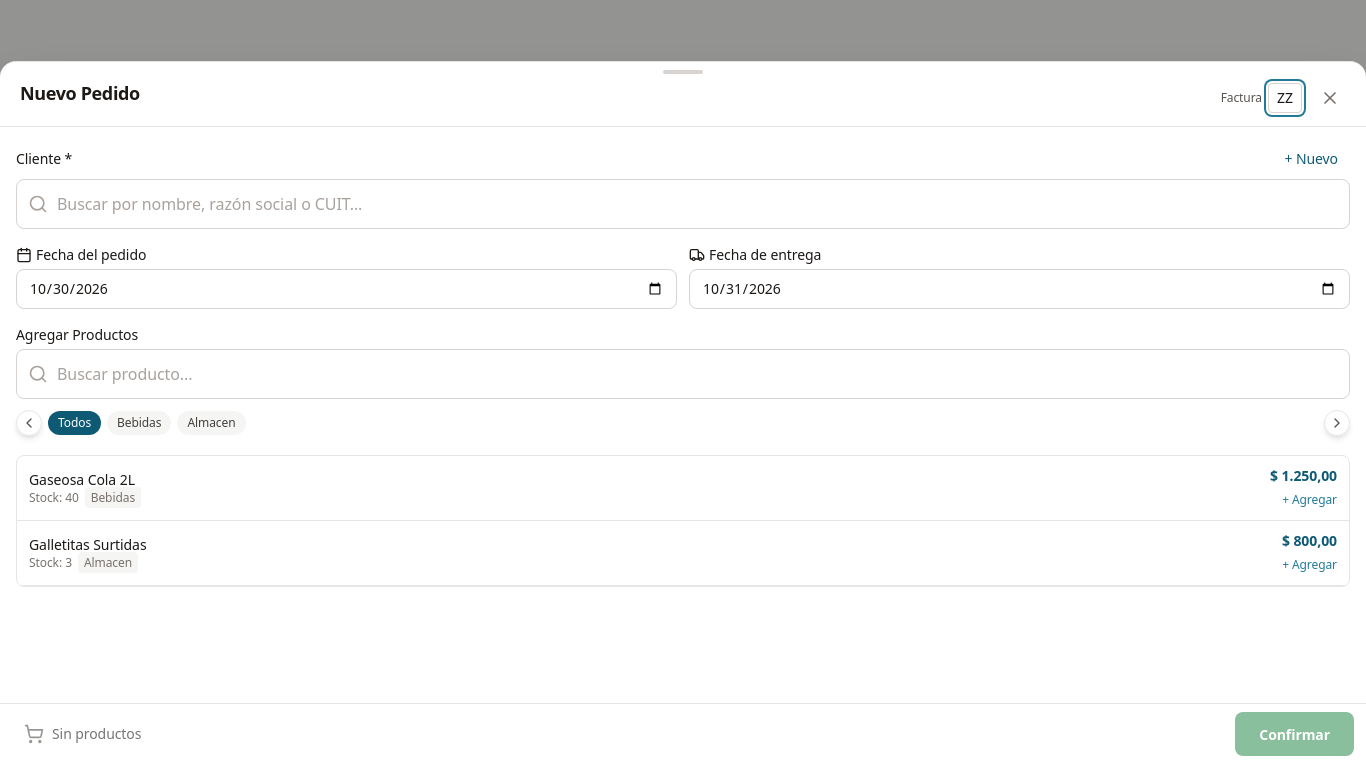
Test: ModalPedido en celular — el envoltorio › el cajón del carrito conserva su contrato: aria-expanded, aria-controls y aria-hidden
Type "Gaseosa" into the field with placeholder "Buscar producto...".
click(683, 374); type("Gaseosa")  # box [16,350,1350,400]
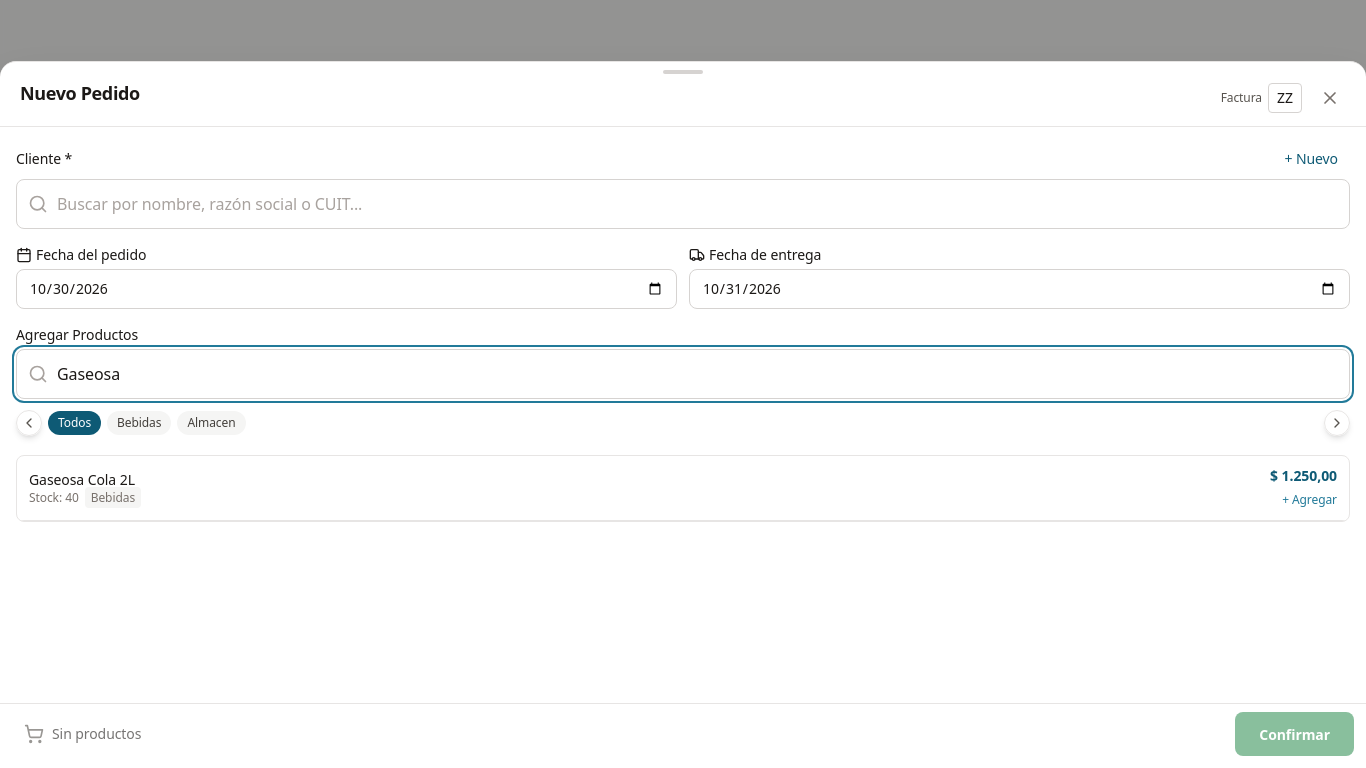
Click the text "+ Agregar".
click(1310, 500)  # box [1282,492,1337,508]
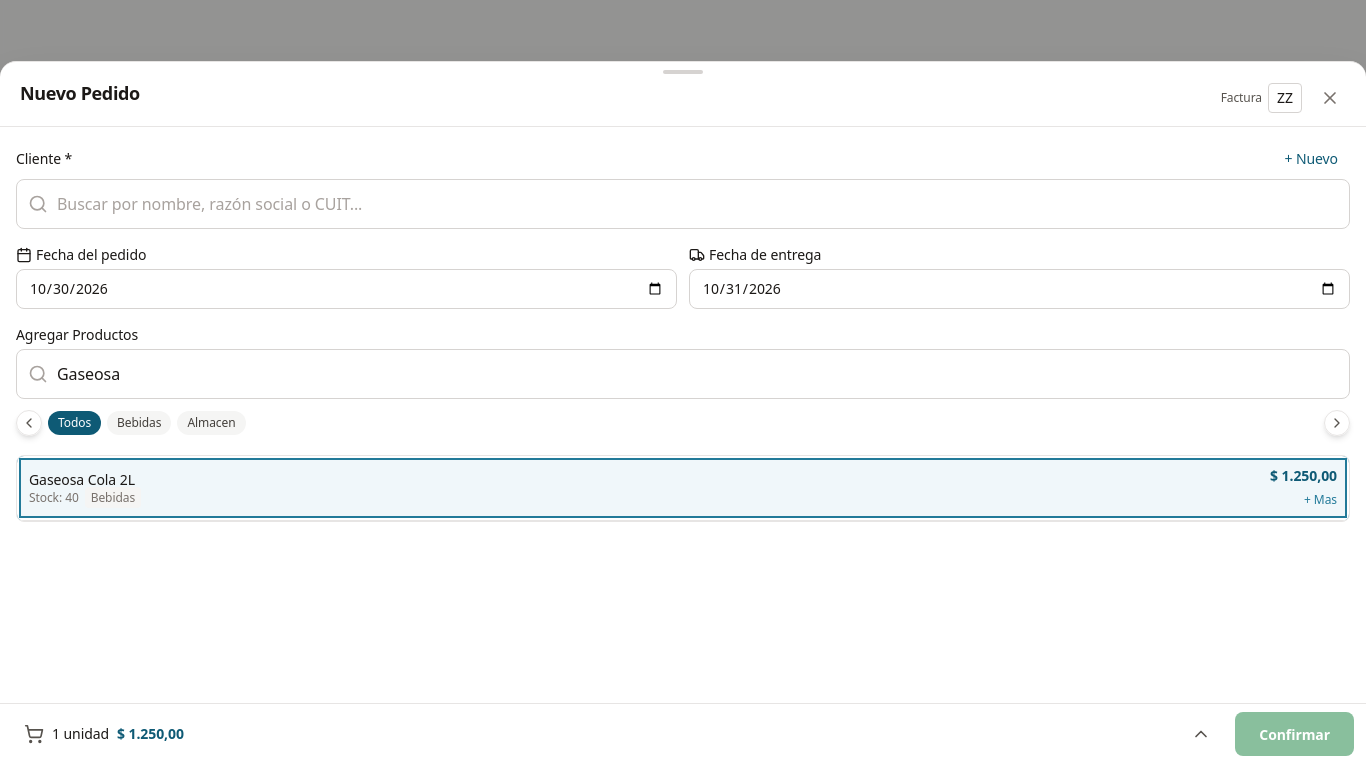
Click the button "1 unidad $ 1.250,00".
click(80, 734)  # box [8,712,1227,756]
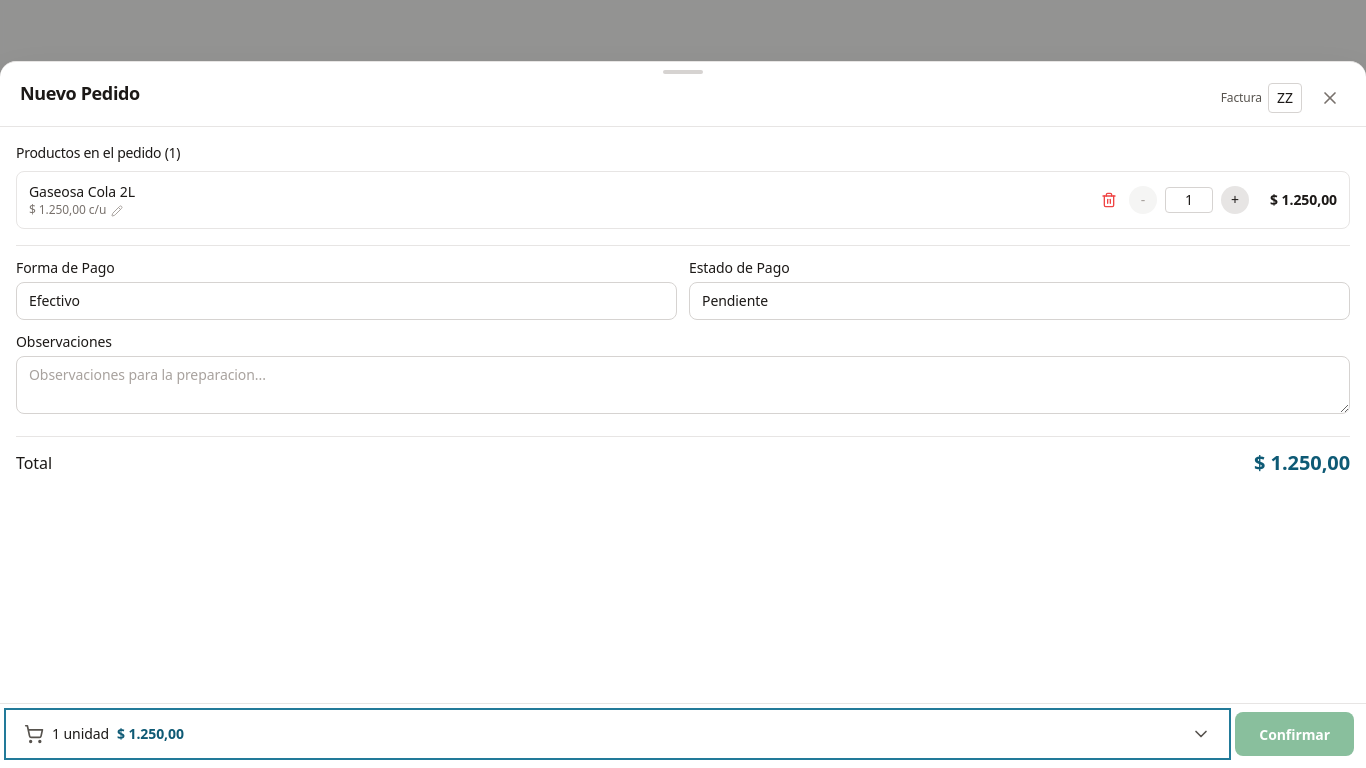
Expected: the button "1 unidad $ 1.250,00" is expanded
Expected: the heading "Productos en el pedido (1)" is shown, [16,144,180,162]
Click the button "1 unidad $ 1.250,00".
click(80, 734)  # box [8,712,1227,756]
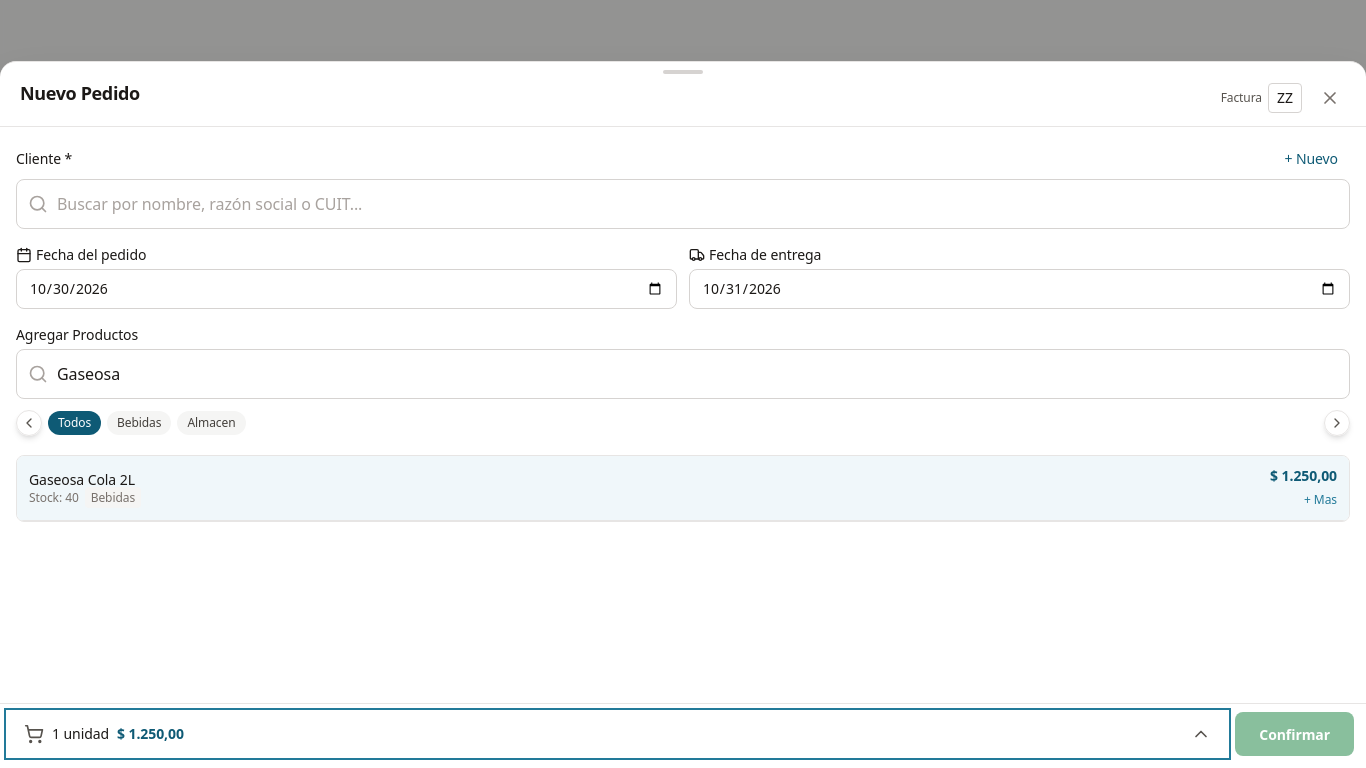
Expected: the button "1 unidad $ 1.250,00" is collapsed, [8,712,1227,756]
